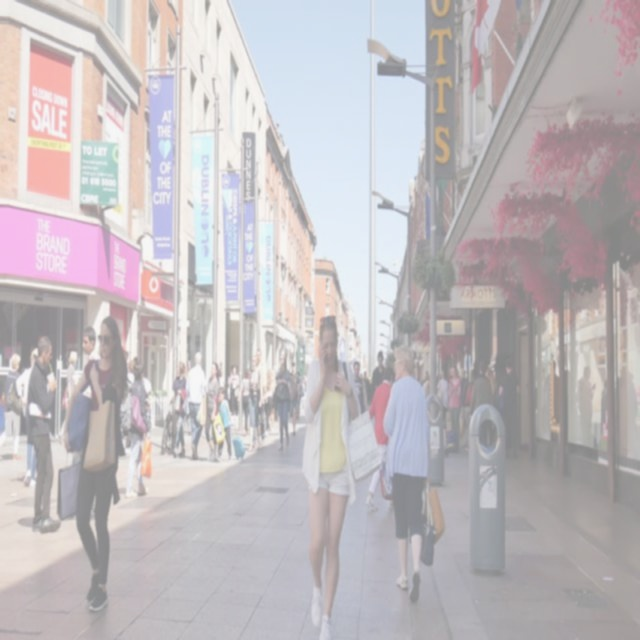pessoa: (300, 312, 363, 639), (62, 312, 128, 615), (531, 347, 639, 485), (382, 342, 432, 606), (64, 321, 122, 523), (24, 330, 63, 538), (364, 364, 398, 514), (484, 347, 520, 460), (124, 360, 152, 500), (14, 345, 41, 488), (0, 352, 25, 464), (185, 349, 208, 462), (270, 352, 292, 454), (458, 359, 480, 457), (202, 358, 221, 464), (58, 349, 78, 447), (122, 347, 154, 400), (467, 357, 493, 419), (212, 386, 233, 462), (171, 361, 187, 458), (262, 356, 280, 440), (446, 362, 462, 454), (249, 353, 264, 451), (255, 347, 268, 445), (368, 348, 386, 408), (59, 346, 71, 429), (262, 365, 276, 435), (288, 360, 300, 436), (352, 358, 368, 414), (240, 366, 252, 438), (456, 366, 468, 438), (436, 366, 449, 431), (182, 365, 192, 435), (230, 364, 240, 419), (70, 355, 80, 408), (292, 371, 301, 422), (364, 381, 378, 412), (362, 370, 372, 412), (301, 358, 311, 394), (0, 388, 6, 446), (226, 371, 234, 414), (420, 368, 430, 401), (443, 364, 454, 391), (168, 380, 178, 407), (217, 367, 226, 392), (185, 347, 192, 377), (164, 434, 174, 454), (434, 366, 442, 388), (285, 402, 293, 420), (358, 371, 370, 382), (248, 368, 252, 383)
